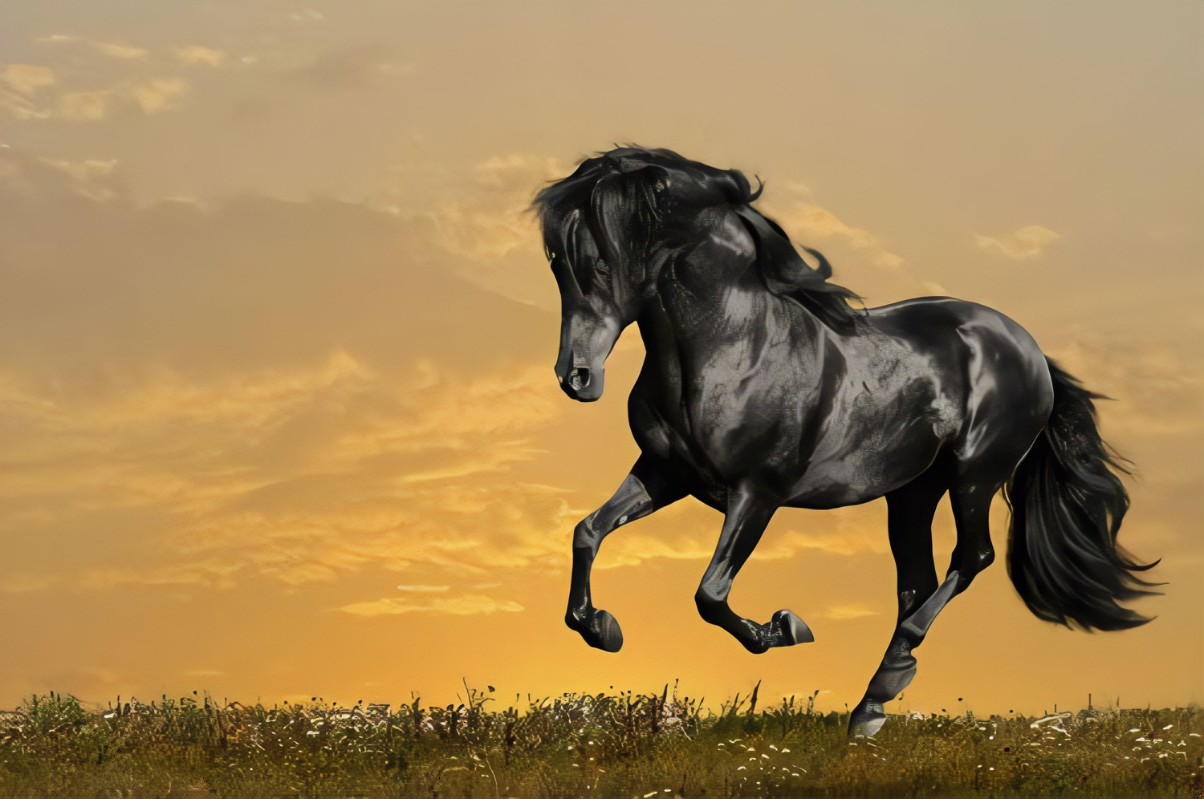horse: (518, 134, 1166, 741)
